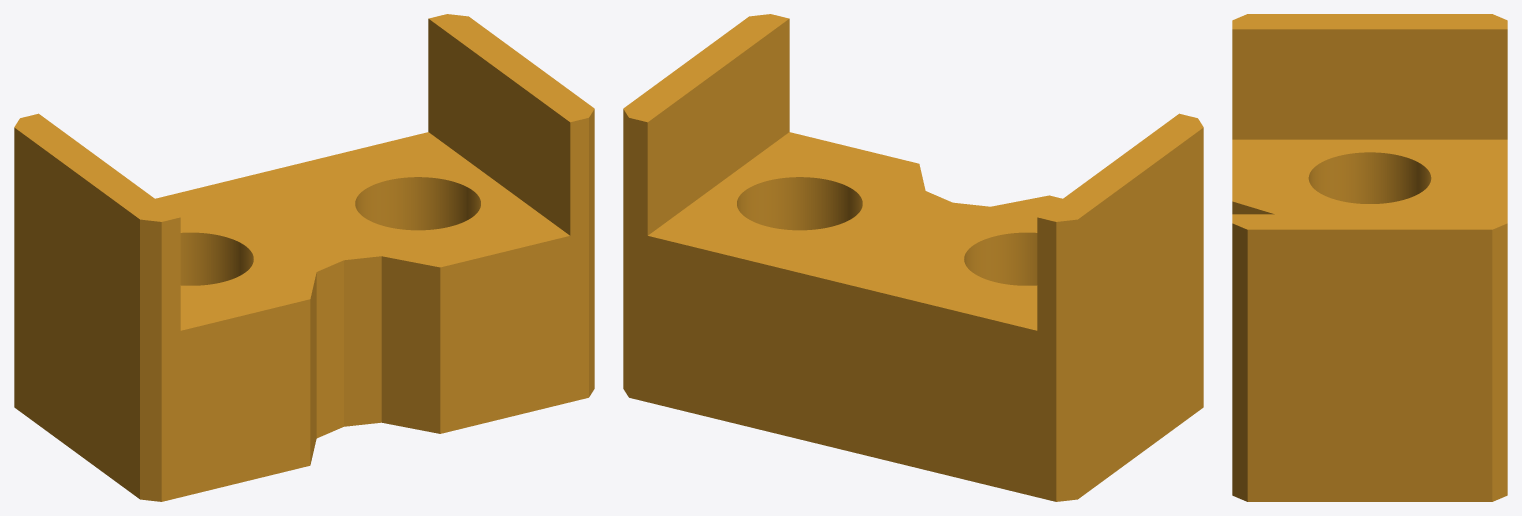
3 renders of one model, left to right at view 1: azimuth 30°, elevation 25°; view 2: azimuth 150°, elevation 25°; view 3: azimuth 270°, elevation 25°, orthographic. The views are drawn at different scales.
Visible parts, largest first — view 1: Cube.008_Cube.001; view 2: Cube.008_Cube.001; view 3: Cube.008_Cube.001.
Boxes of the visible parts, x1,y1,x2,y2 form: Cube.008_Cube.001: (14, 14, 594, 501); Cube.008_Cube.001: (623, 14, 1203, 501); Cube.008_Cube.001: (1232, 14, 1507, 501).
Size of the model in its own units: 0.4396 by 0.2587 by 0.2374.
